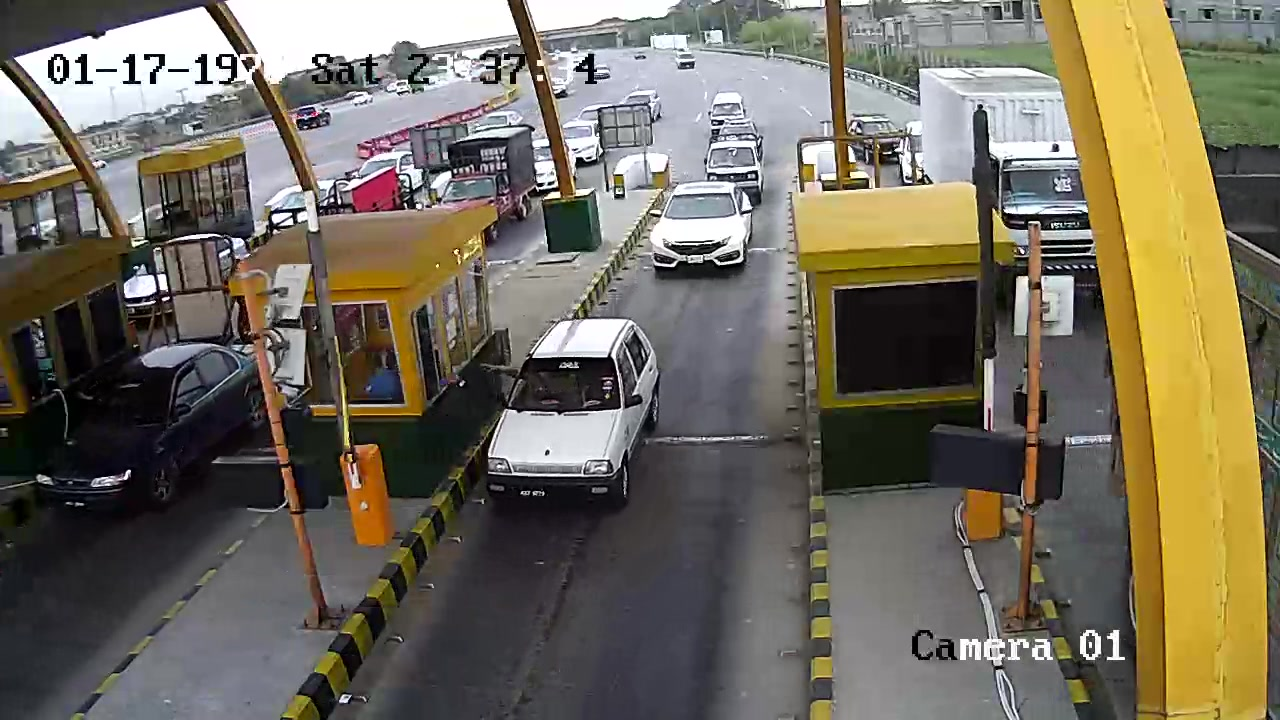F1: (476, 318, 675, 521)
